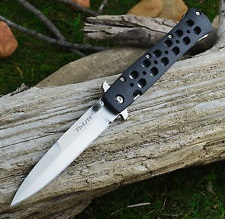knife: (8, 94, 117, 211)
